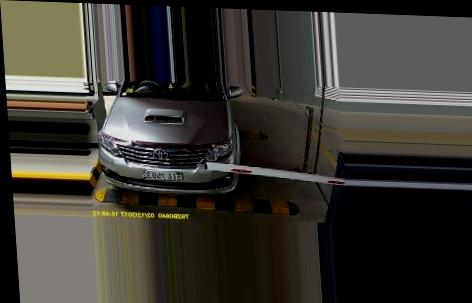License_Plate: (140, 169, 185, 182)
